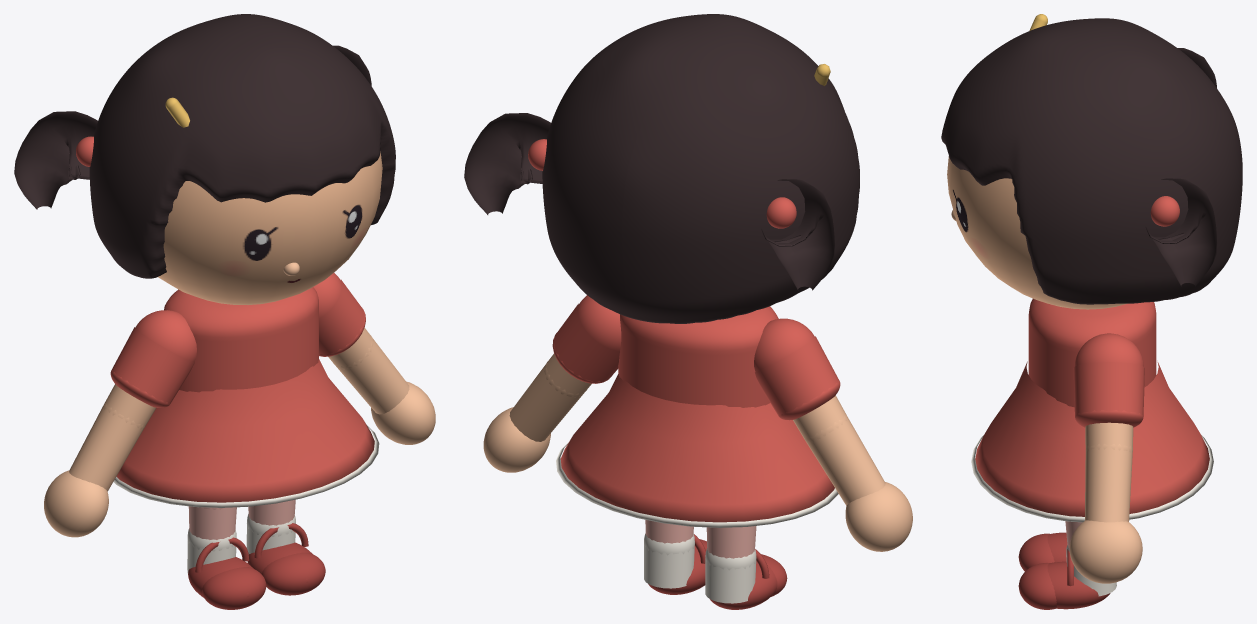
File: mei_child.glb
The picture shows the model from 3 angles, left to right: view 1: azimuth 30°, elevation 25°; view 2: azimuth 150°, elevation 25°; view 3: azimuth 270°, elevation 25°; orthographic projection. The views are drawn at different scales.
Visible parts, largest first — view 1: hair, pelvis, head, torso, upper_arm_R, upper_arm_L, shoe_R, shoe_L, lower_arm_R, hand_R, lower_arm_L, shin_R (+2 smaller); view 2: hair, pelvis, torso, upper_arm_R, upper_arm_L, shin_R, lower_arm_R, hand_R, shin_L, lower_arm_L, hand_L, shoe_R (+1 smaller); view 3: hair, pelvis, torso, head, upper_arm_L, hand_L, lower_arm_L, shoe_L, shoe_R, shin_L.
Boxes of the visible parts, x1,y1,x2,y2 form: hair: (14,14,395,278); pelvis: (113,359,379,507); head: (158,151,382,304); torso: (164,287,318,392); upper_arm_R: (103,310,196,429); upper_arm_L: (313,273,373,369); shoe_R: (188,537,266,609); shoe_L: (247,523,325,595); lower_arm_R: (69,405,143,491); hand_R: (44,470,108,537); lower_arm_L: (336,337,409,414); shin_R: (187,506,236,573); hair: (464,14,859,323); pelvis: (556,374,838,527); torso: (618,306,778,407); upper_arm_R: (754,318,848,443); upper_arm_L: (544,295,621,397); shin_R: (705,526,756,603); lower_arm_R: (806,417,885,505); hand_R: (845,482,912,551); shin_L: (644,520,694,588); lower_arm_L: (509,363,583,441); hand_L: (483,407,550,472); shoe_R: (710,549,787,609); hair: (941,14,1242,304); pelvis: (971,361,1213,522); torso: (1028,298,1156,407); head: (947,156,1126,309); upper_arm_L: (1073,333,1144,452); hand_L: (1069,520,1142,583); lower_arm_L: (1085,446,1132,522); shoe_L: (1018,549,1110,609); shoe_R: (1018,532,1067,571); shin_L: (1065,521,1116,596).
Bounding box in the file's own units: 0.821 × 1.11 × 0.5431.
8 materials, 1 textured.
